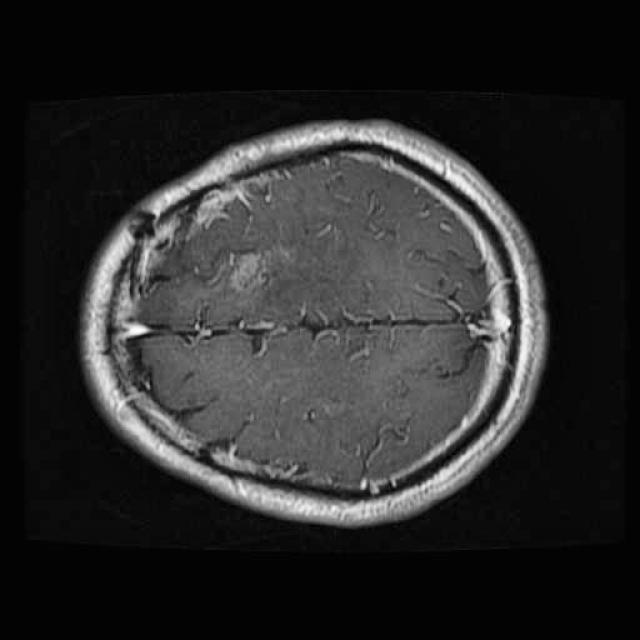Tumor: (206, 231, 284, 305)
